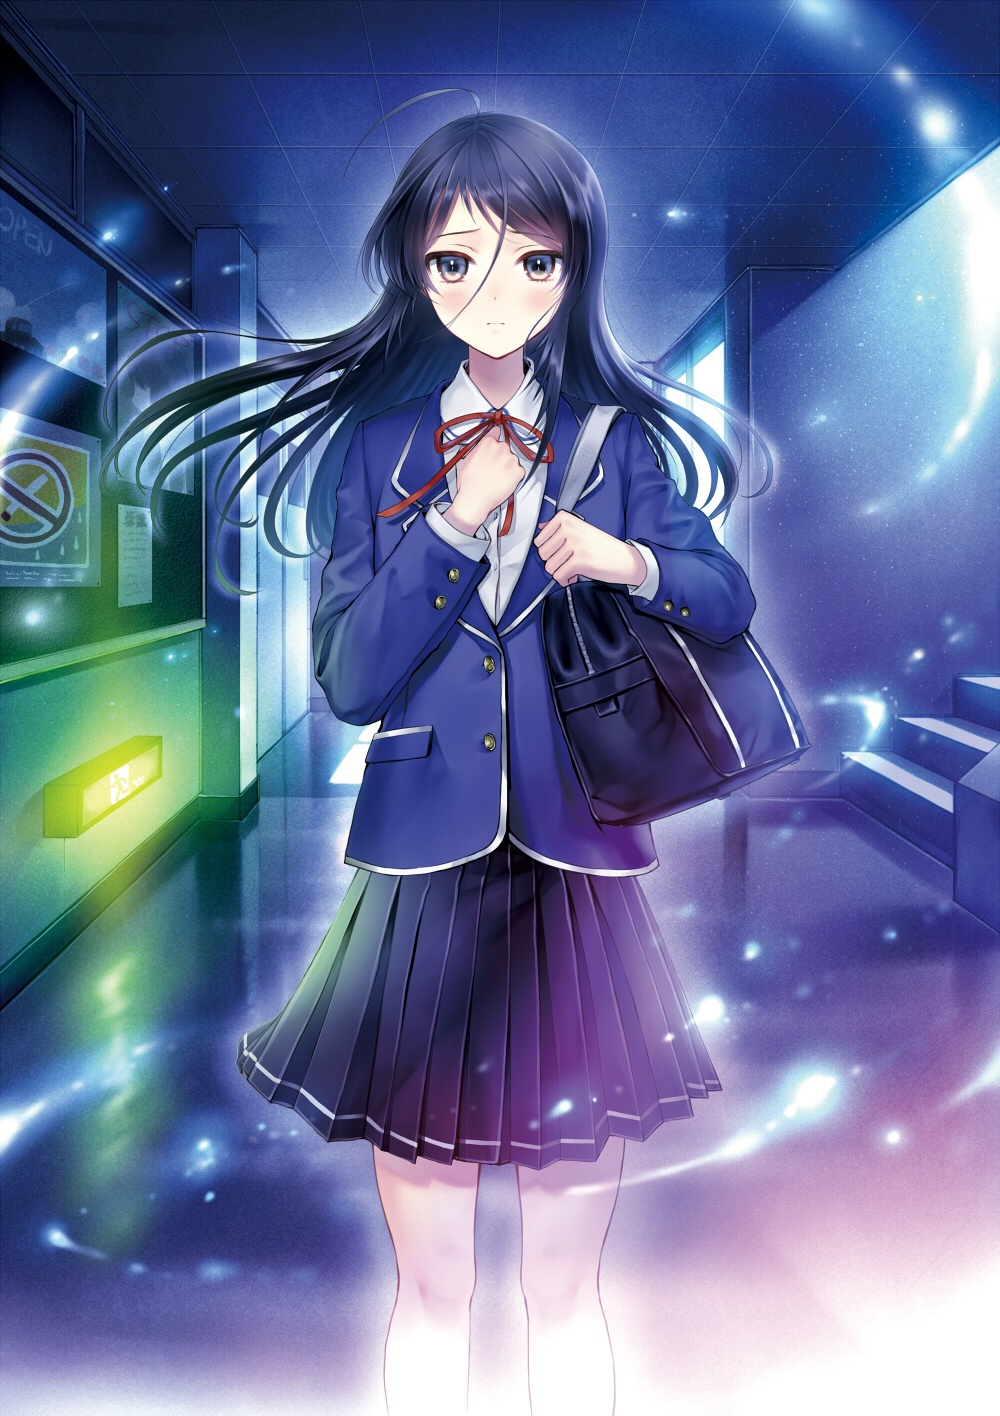纸片人正脸: (369, 98, 610, 361)
